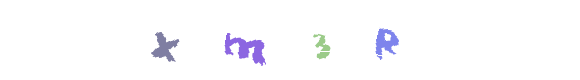3: (260, 0, 340, 80)
M: (250, 0, 330, 80)
R: (269, 0, 349, 80)
X: (124, 0, 204, 80)
